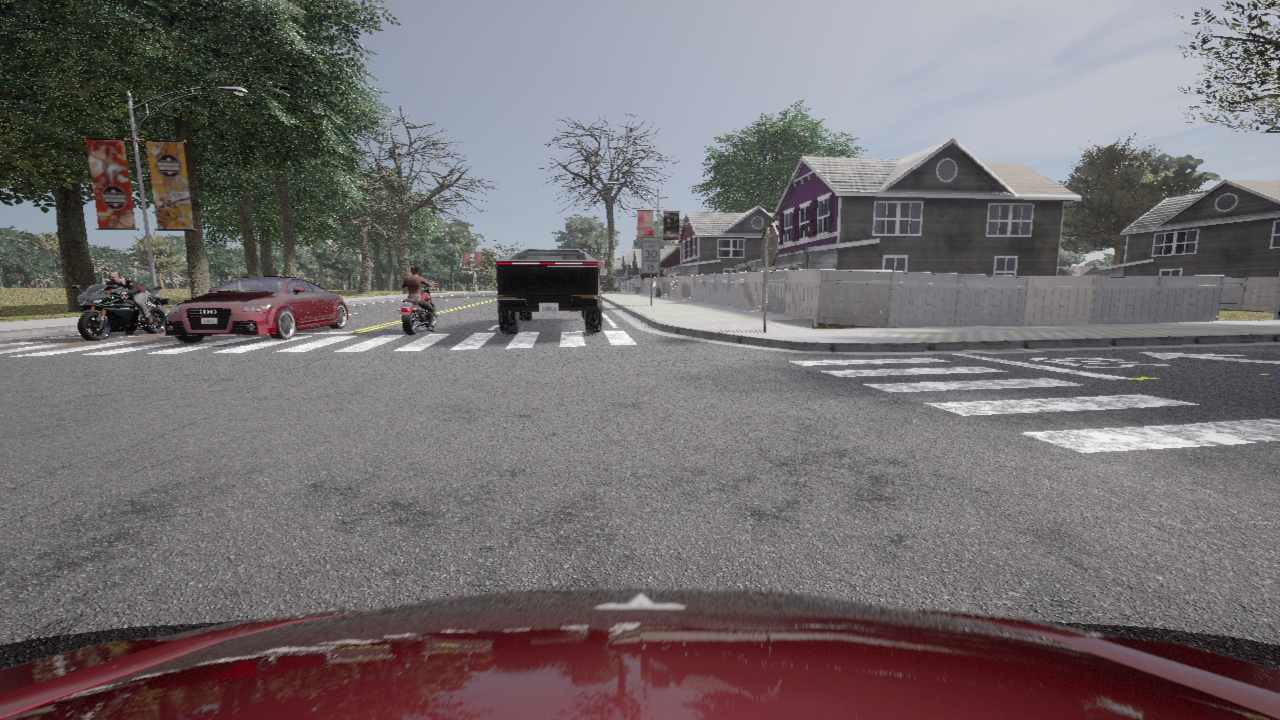cyclist: (0, 588, 1279, 719), (165, 276, 348, 342), (495, 249, 602, 333), (71, 283, 169, 340), (397, 280, 436, 334)
